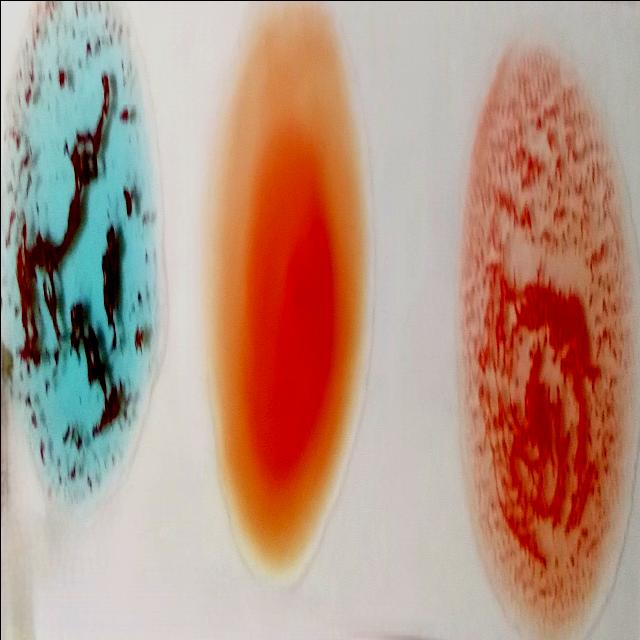A: (10, 12, 159, 520)
D: (459, 42, 636, 626)
